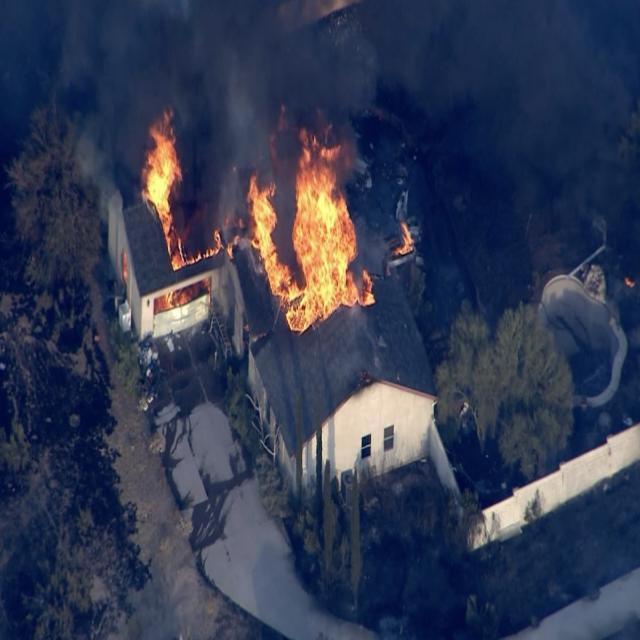Fire: (287, 114, 375, 333), (140, 99, 186, 274), (246, 172, 302, 300), (398, 218, 412, 260), (206, 228, 220, 258), (226, 238, 234, 260), (188, 253, 202, 263)
